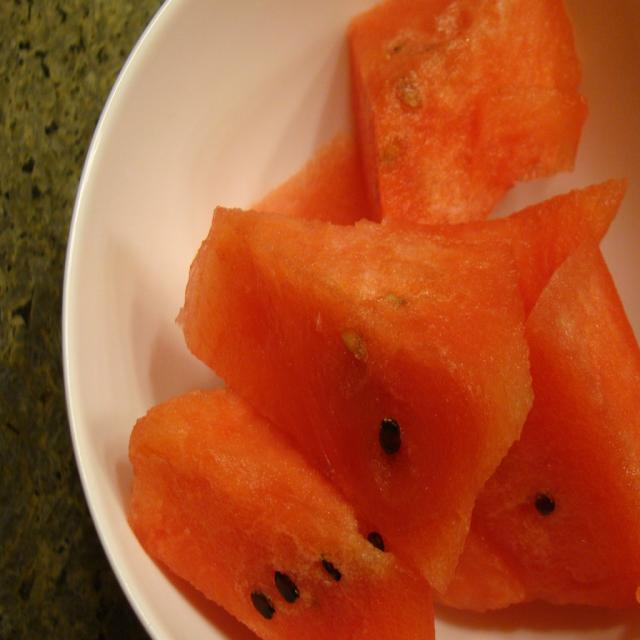Watermelon: (128, 0, 640, 639)
